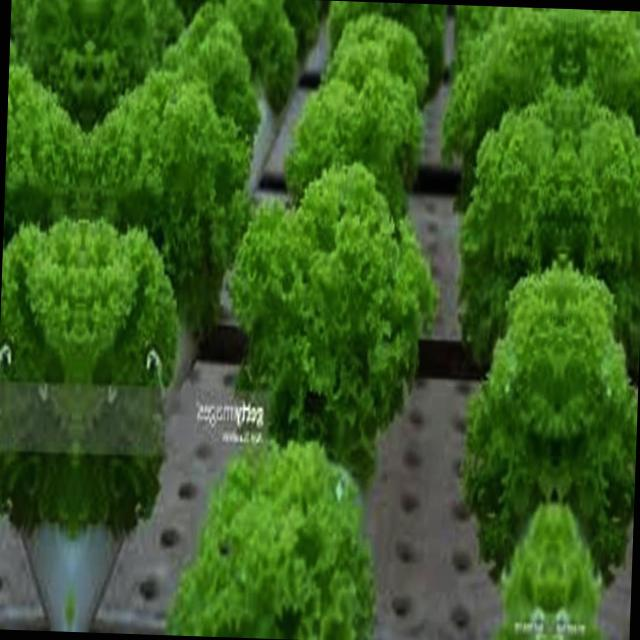healthy: (222, 156, 442, 462), (79, 75, 247, 344), (168, 436, 376, 640), (278, 60, 430, 296), (458, 75, 568, 396), (450, 21, 570, 294), (73, 211, 180, 508), (465, 249, 563, 569), (551, 251, 640, 571), (557, 78, 640, 399), (0, 206, 84, 504), (0, 72, 89, 339), (562, 24, 640, 297), (321, 0, 436, 150), (155, 1, 251, 179), (5, 0, 21, 170)
